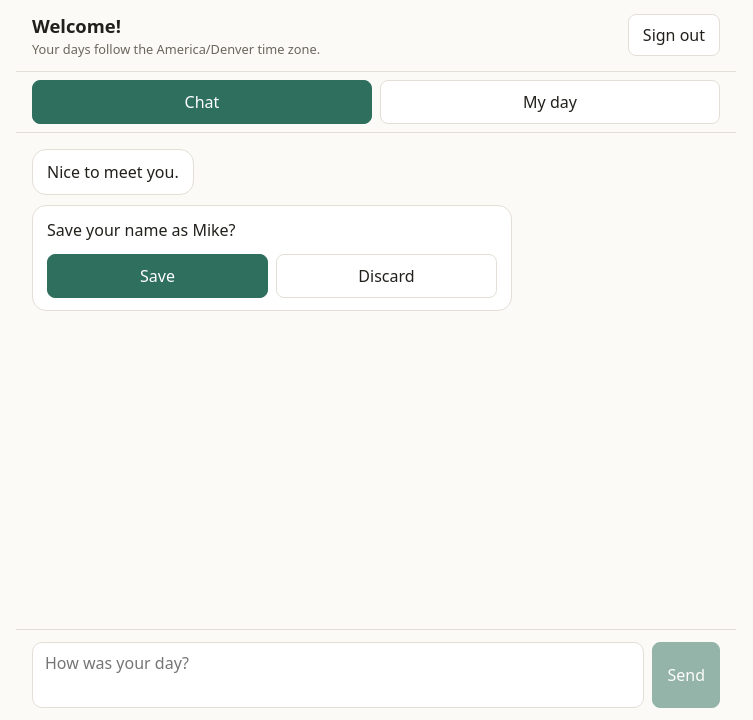
Test: the welcome line › switches to the new name once a name card is saved
Click the button "Save" at (158, 276), box [47,254,268,298]
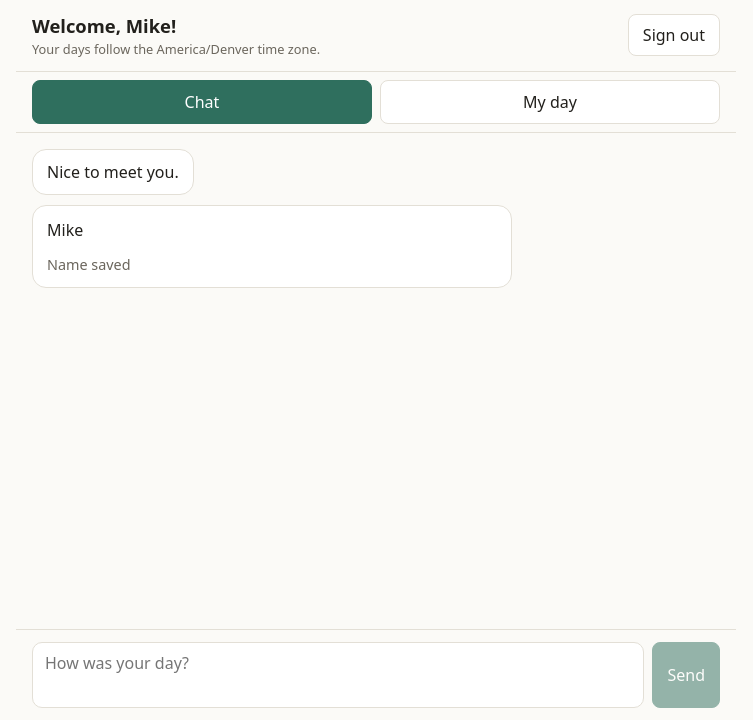
Now the heading "Welcome, Mike!" is shown, box [32,13,176,38]
